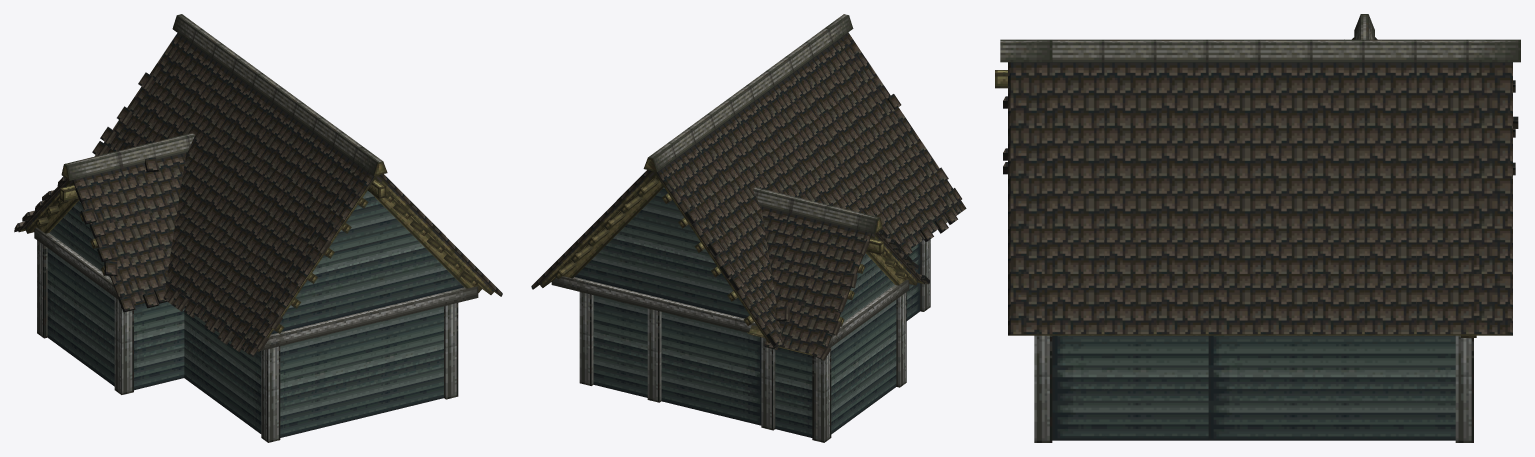
Rendered from EnvBdgMD_WoodHouse_A_Outdoor_House_Home.FBX.
The picture shows the model from 3 angles, left to right: view 1: azimuth 30°, elevation 25°; view 2: azimuth 150°, elevation 25°; view 3: azimuth 270°, elevation 25°; orthographic projection. The views are drawn at different scales.
Parts seen in each view (by area): view 1: EnvBdgMD_WoodHouse_A_Outdoor_House_Home; view 2: EnvBdgMD_WoodHouse_A_Outdoor_House_Home; view 3: EnvBdgMD_WoodHouse_A_Outdoor_House_Home.
Boxes of the visible parts, <box> form: EnvBdgMD_WoodHouse_A_Outdoor_House_Home: <box>14,14,502,442</box>; EnvBdgMD_WoodHouse_A_Outdoor_House_Home: <box>531,14,966,442</box>; EnvBdgMD_WoodHouse_A_Outdoor_House_Home: <box>995,14,1520,442</box>.
Size of the model in its own units: 872 by 730 by 1010.
Materials: 1 (1 with a texture image).
